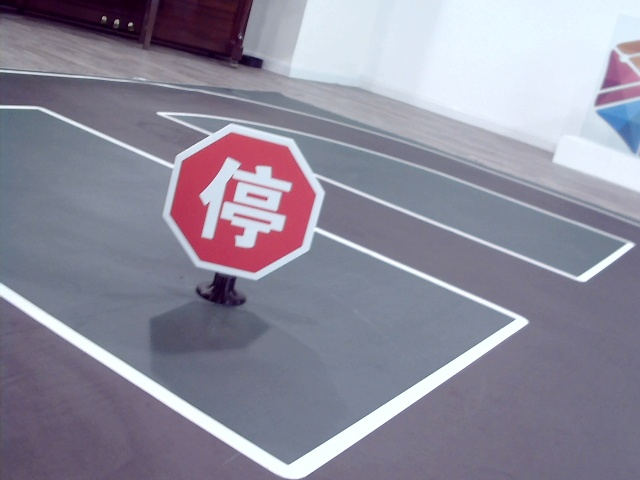stop: (200, 154, 285, 251)
